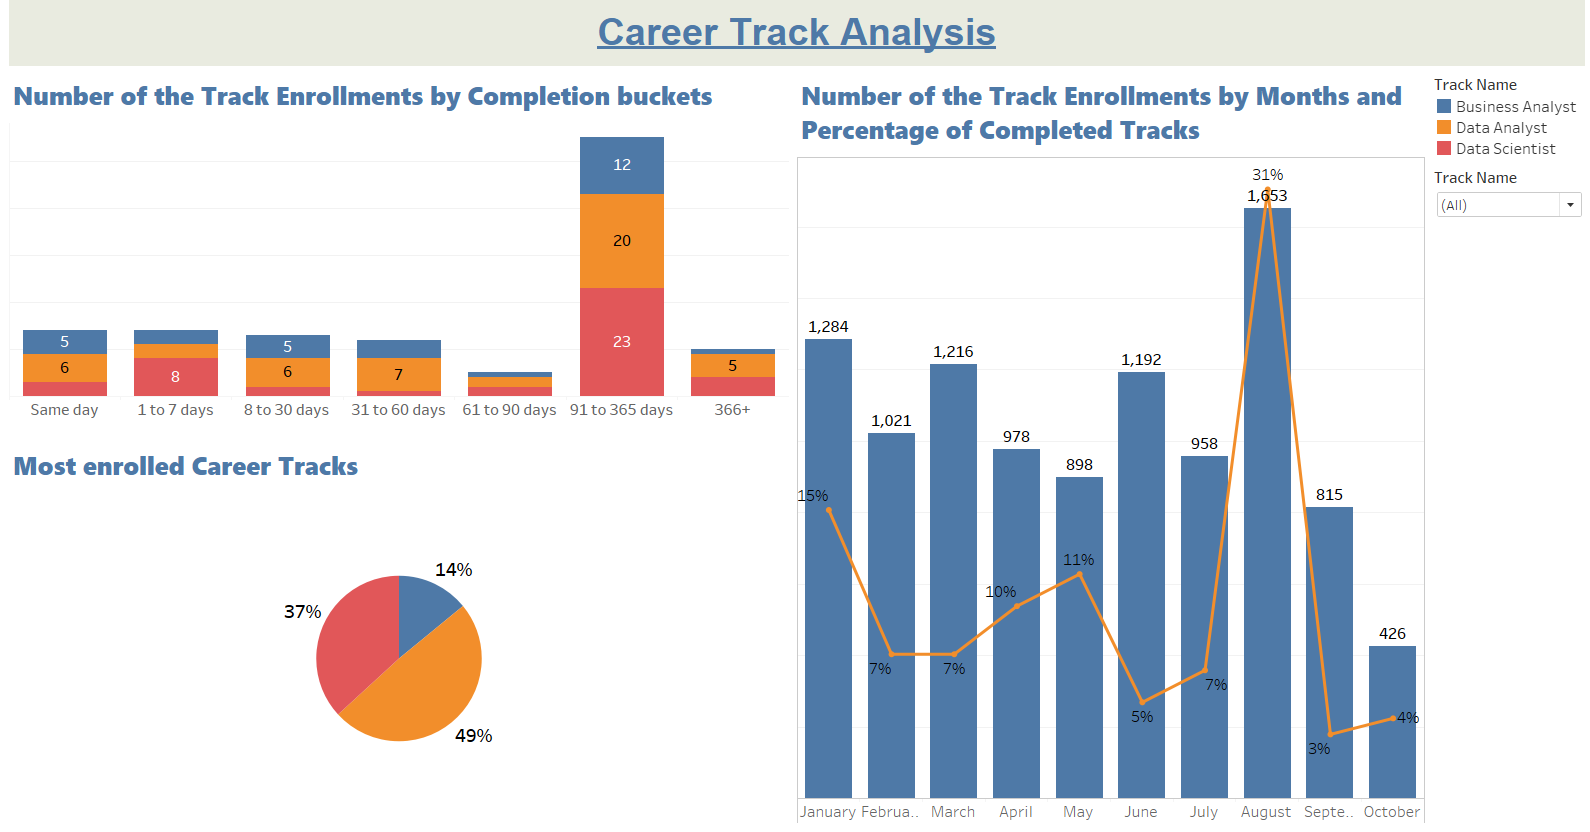

The dashboard page shown, as its layout file describes it:
{"tool":"tableau","page":{"name":"Dashboard 1","canvas":[1600,850],"ordinal":0},"visuals":[{"type":"title","box":[8,8,1584,76]},{"type":"worksheet","title":"Sheet 2","mark":"Automatic","rows":["track_completed"],"cols":["completion_bucket"],"box":[8,84,788.5,370]},{"type":"worksheet","title":"Sheet 1","mark":"Bar","rows":["track_Name","track_completed"],"cols":["date_enrolled"],"box":[796.5,84,636.2,758]},{"type":"legend","title":"Sheet 3","param":"[federated.0jc3hvn1s8wokx12mnhpf1abdykd].[none:track_name:nk]","box":[1432.7,84,159.3,93]},{"type":"filter","title":"Sheet 1","param":"[federated.0jc3hvn1s8wokx12mnhpf1abdykd].[none:track_name:nk]","box":[1432.7,177,159.3,61]},{"type":"worksheet","title":"Sheet 3","mark":"Pie","box":[8,454,788.5,388]}]}

Visuals, with their boxes in screenshot pixels (x1, y1, x2, y2), scaled from the page's 1600x850 canvas onto the 1590x832 screenshot:
title: 8,8,1582,82
"Sheet 2" worksheet: 8,82,792,444
"Sheet 1" worksheet (Bar marks): 792,82,1424,824
"Sheet 3" legend: 1424,82,1582,173
"Sheet 1" filter: 1424,173,1582,233
"Sheet 3" worksheet (Pie marks): 8,444,792,824
